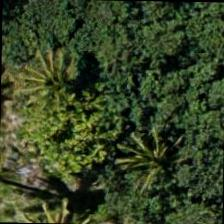Kelapa_Sawit: (13, 41, 104, 133)
